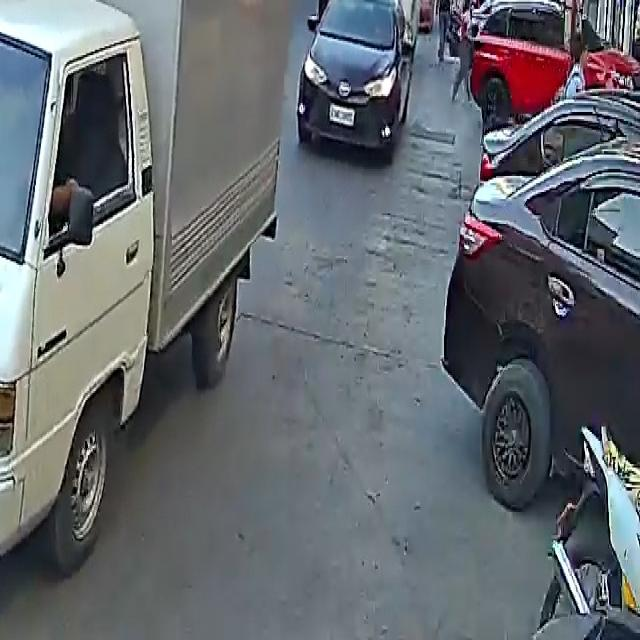car: (443, 92, 640, 521), (295, 0, 412, 156), (465, 0, 593, 128)
